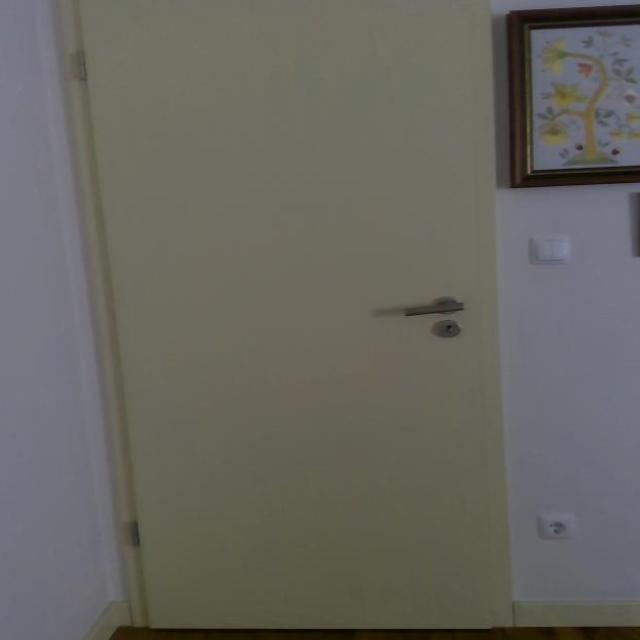door: (68, 0, 514, 631)
